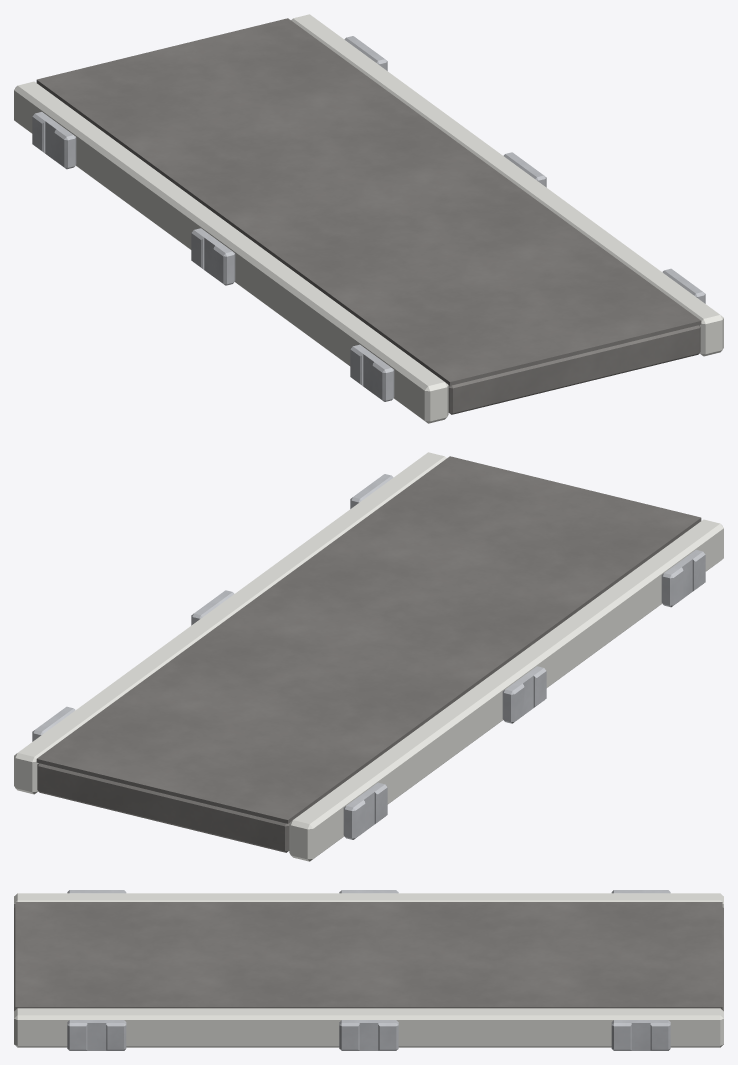
The model's file is ax_rover_15_chassis_l.glb.
3 renders of one model, top to bottom at view 1: azimuth 30°, elevation 25°; view 2: azimuth 150°, elevation 25°; view 3: azimuth 270°, elevation 25°, orthographic. The views are drawn at different scales.
Parts seen in each view (by area): view 1: deck_grid, side_beams, cross_members, axle_stations; view 2: deck_grid, side_beams, cross_members, axle_stations; view 3: deck_grid, side_beams, axle_stations, cross_members.
Part boxes in pixels (<box>): deck_grid: <box>36,18,701,385</box>; side_beams: <box>14,14,723,423</box>; cross_members: <box>448,325,700,414</box>; axle_stations: <box>32,36,705,401</box>; deck_grid: <box>36,456,701,823</box>; side_beams: <box>14,452,723,861</box>; cross_members: <box>37,763,289,852</box>; axle_stations: <box>32,474,705,839</box>; deck_grid: <box>15,902,722,1009</box>; side_beams: <box>14,893,723,1047</box>; axle_stations: <box>67,890,670,1050</box>; cross_members: <box>14,907,723,1011</box>.
Size of the model in its own units: 2.7 by 0.3 by 6.
3 materials, 2 textured.
